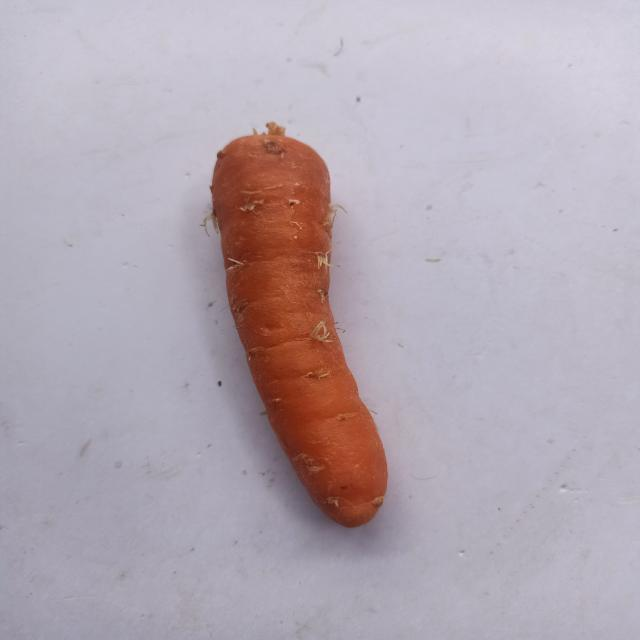Carrot: (161, 106, 420, 541)
